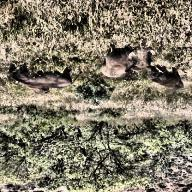boar: (10, 55, 75, 100), (104, 35, 155, 77), (151, 67, 188, 88)
